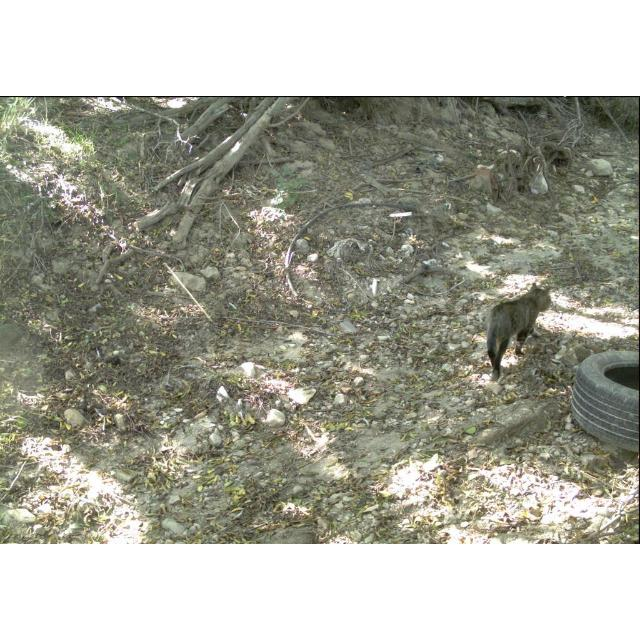animals: (484, 282, 554, 390)
